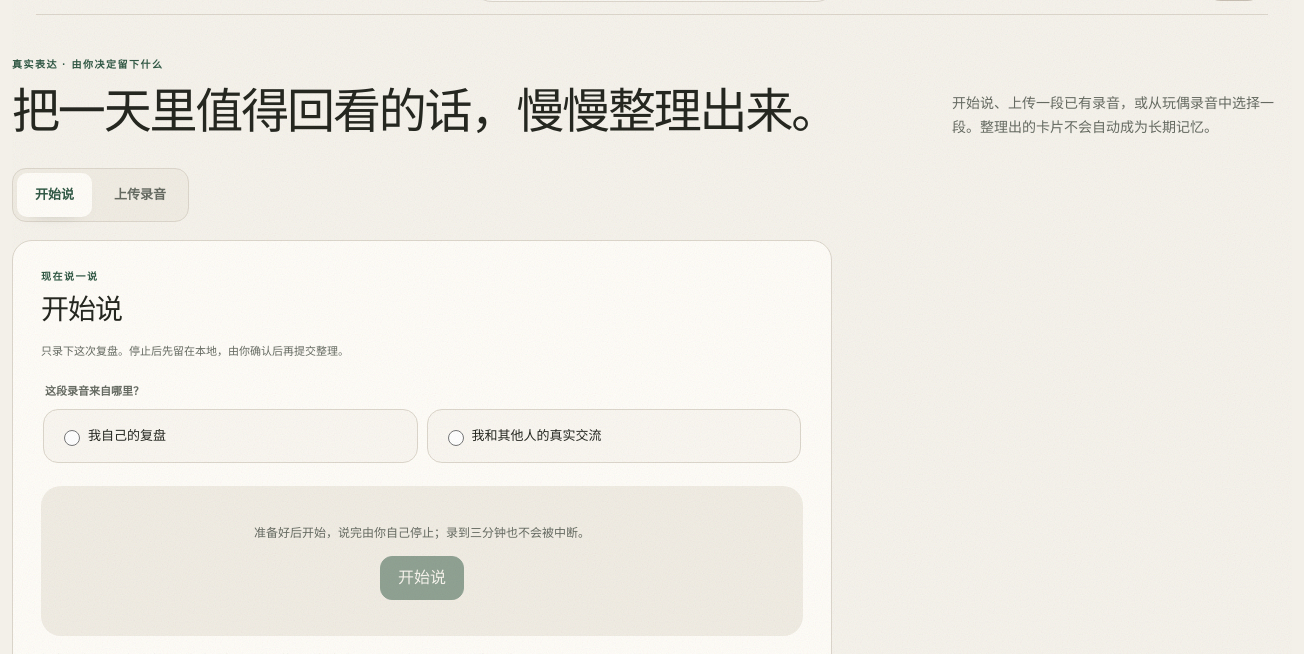
Scenario: DailyReflectionShellContent › keeps a live timer and treats 150, 180, and 181 seconds as presentation hints only
Click the radio button labelled "我自己的复盘" at (72, 438), box [64,430,80,446]
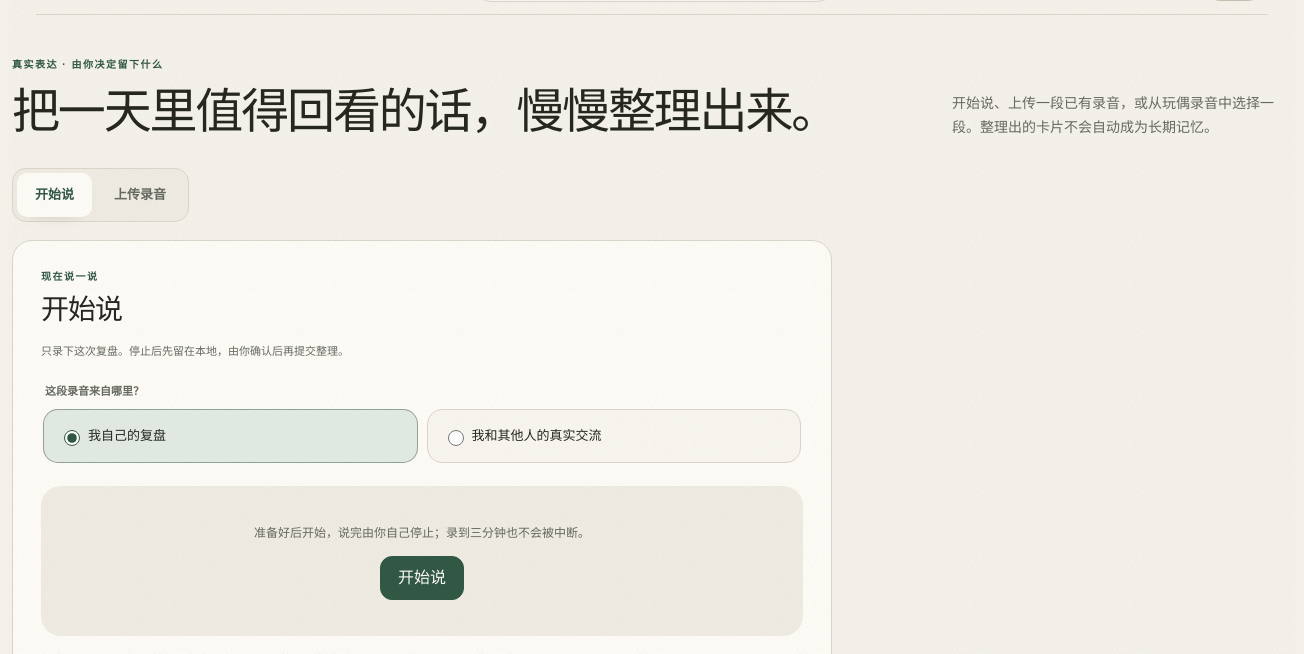
Click the button "开始说" at (422, 578), box [380,556,464,600]
Wait 1000 ms
(page scrolled)
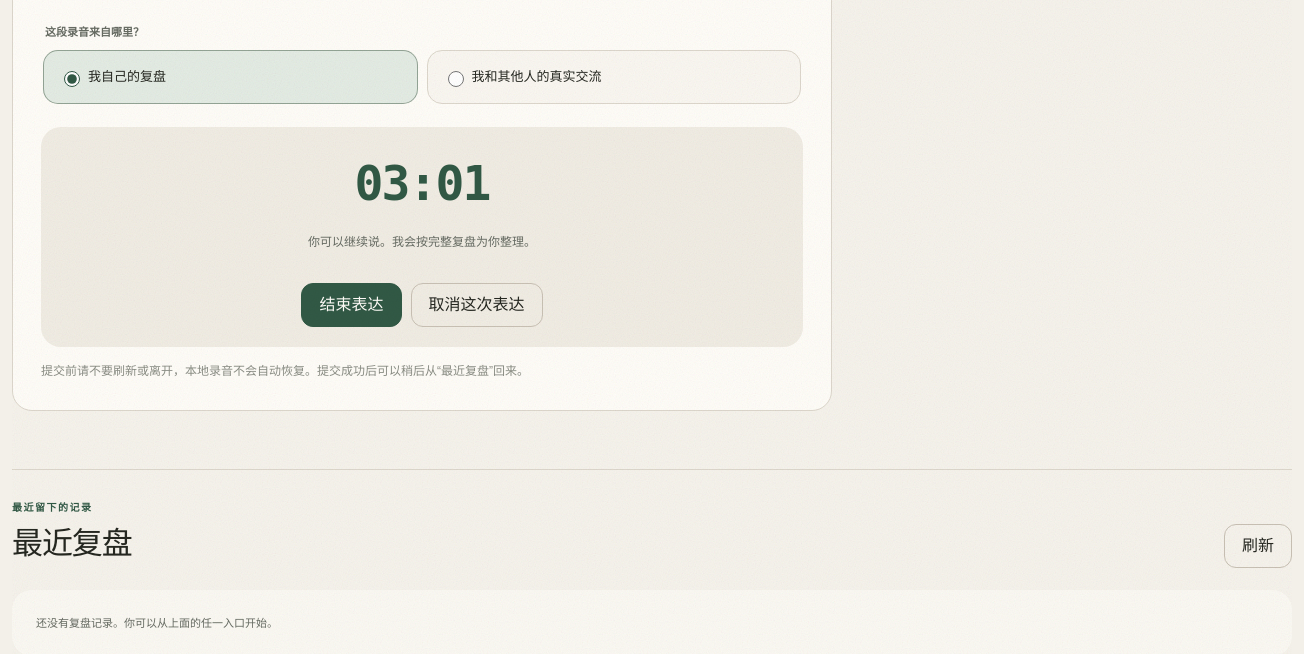
Result: the button "结束表达" is enabled at [302,283,402,327]
Result: the text named "录音时长 00:01" is shown at [354,147,489,219]
Result: the text "你可以继续说。我会按完整复盘为你整理。" is shown at [308,235,536,249]
